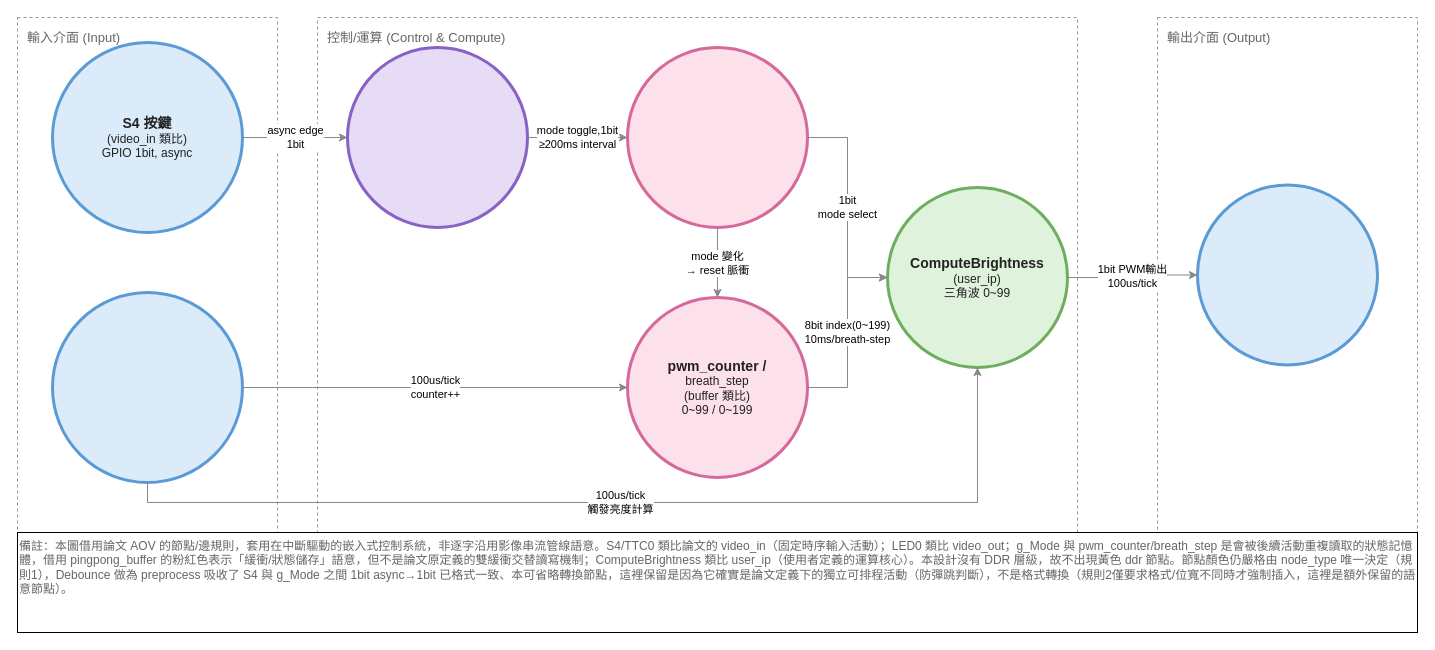
The diagram is 1435 pixels wide and 650 high, and some of its shapes have lost their labels. The centre of each missing label's shape, as x and y in pixels:
"Debounce (preprocess) 200ms gate" goes at point (437, 137).
"g_Mode (buffer 類比) FIXED / BREATH" goes at point (717, 137).
"LED0 (video_out 類比) GPIO 1bit" goes at point (1287, 274).
"TTC0 tick (video_in 類比) 10kHz, 100us/tick" goes at point (147, 387).
